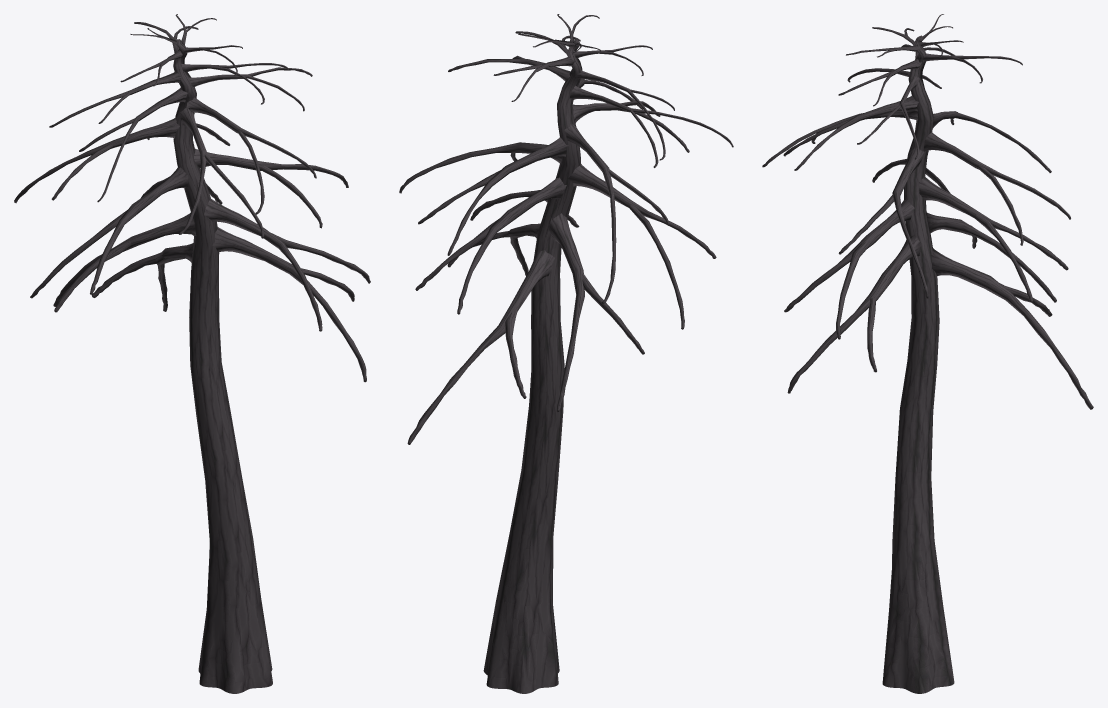
Rendered from dead_tree_3.gltf.
The picture shows the model from 3 angles, left to right: view 1: azimuth 30°, elevation 25°; view 2: azimuth 150°, elevation 25°; view 3: azimuth 270°, elevation 25°; orthographic projection. The views are drawn at different scales.
Visible parts, largest first — view 1: dead_tree_3; view 2: dead_tree_3; view 3: dead_tree_3.
Part boxes in pixels (x1,y1,x2,y2): dead_tree_3: (14, 14, 370, 693); dead_tree_3: (399, 14, 733, 693); dead_tree_3: (762, 14, 1093, 693).
Size of the model in its own units: 6.39 by 13.28 by 6.43.
1 material, 1 textured.
